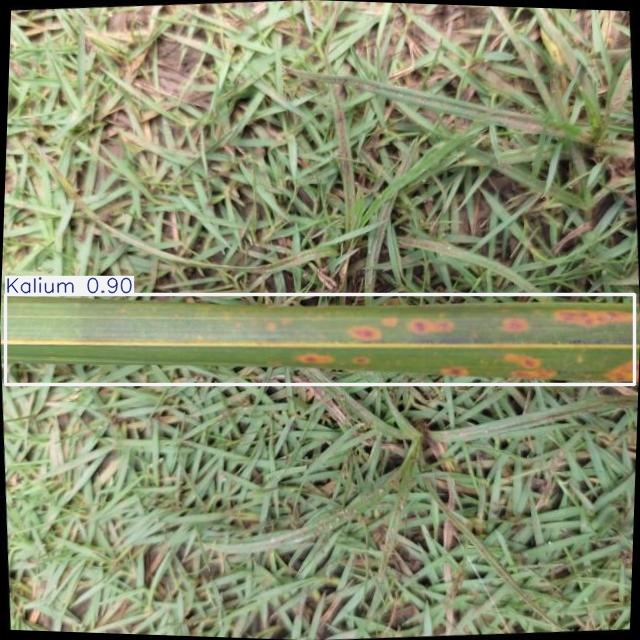Kalium: (5, 295, 635, 385)
